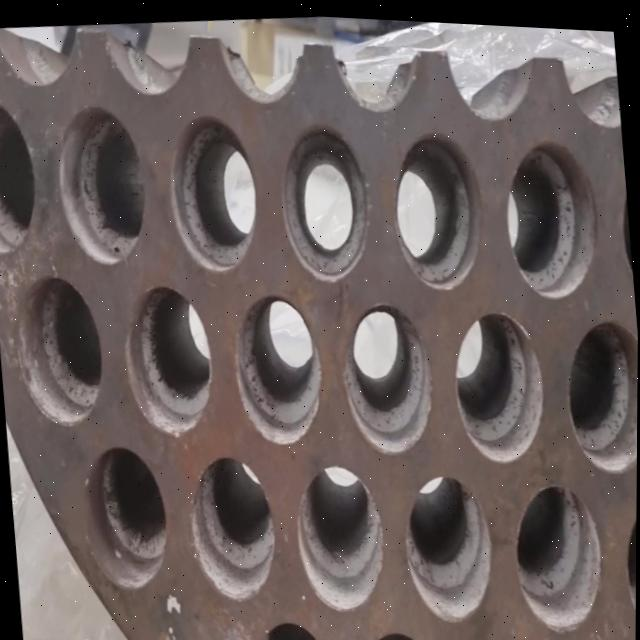Hole: (499, 128, 603, 298), (160, 105, 262, 275), (273, 113, 374, 282), (50, 98, 150, 268), (386, 121, 485, 290), (335, 292, 437, 455), (227, 284, 328, 447), (447, 299, 548, 462), (117, 275, 216, 439), (508, 469, 608, 630), (398, 463, 498, 622), (10, 268, 108, 429), (291, 454, 389, 612), (183, 445, 280, 602), (81, 437, 172, 592), (559, 306, 638, 469), (0, 93, 39, 255), (618, 481, 637, 637), (252, 608, 332, 640), (356, 619, 436, 640)
